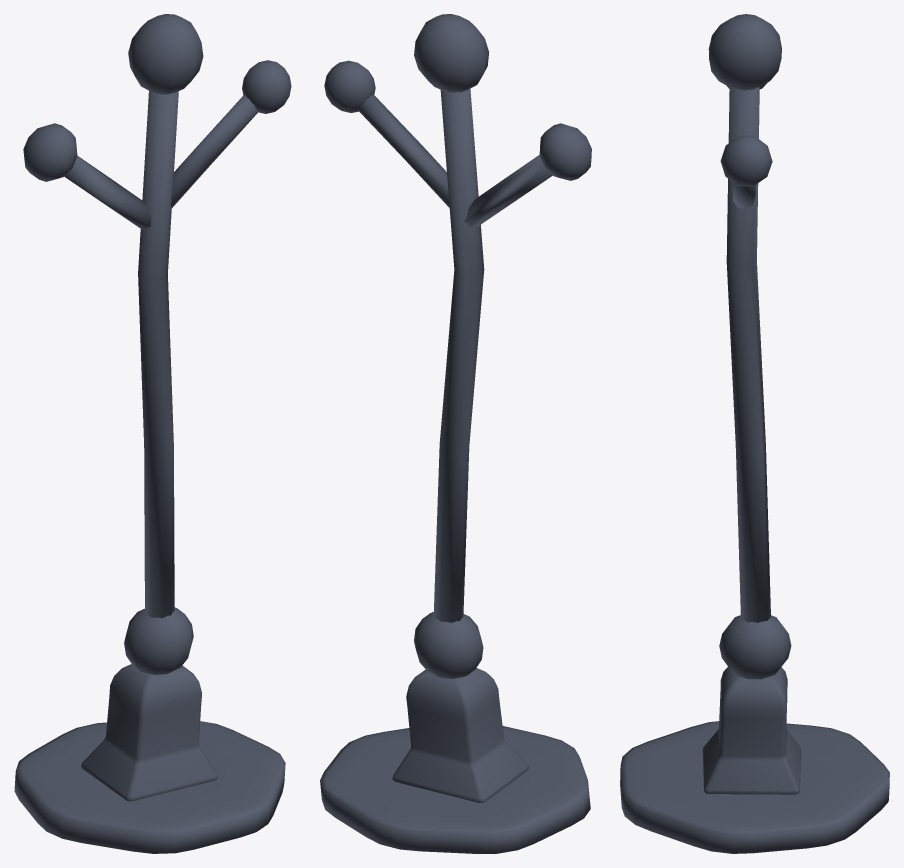
File: props_coatRack.fbx
3 renders of one model, left to right at view 1: azimuth 30°, elevation 25°; view 2: azimuth 150°, elevation 25°; view 3: azimuth 270°, elevation 25°, orthographic.
Visible parts, largest first — view 1: Porte_Manteau; view 2: Porte_Manteau; view 3: Porte_Manteau.
Part boxes in pixels (x1,y1,x2,y2): Porte_Manteau: [14, 14, 291, 853]; Porte_Manteau: [320, 14, 591, 853]; Porte_Manteau: [620, 14, 889, 853].
Size of the model in its own units: 1.07 by 0.9461 by 3.05.
